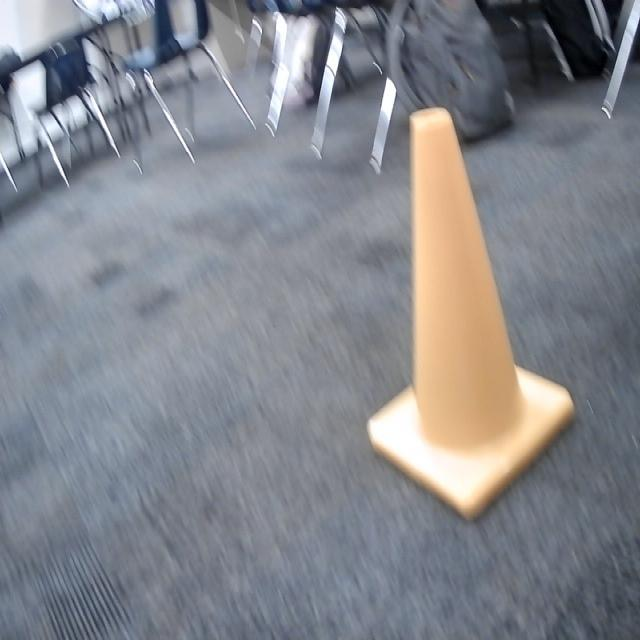cone: (368, 108, 574, 524)
